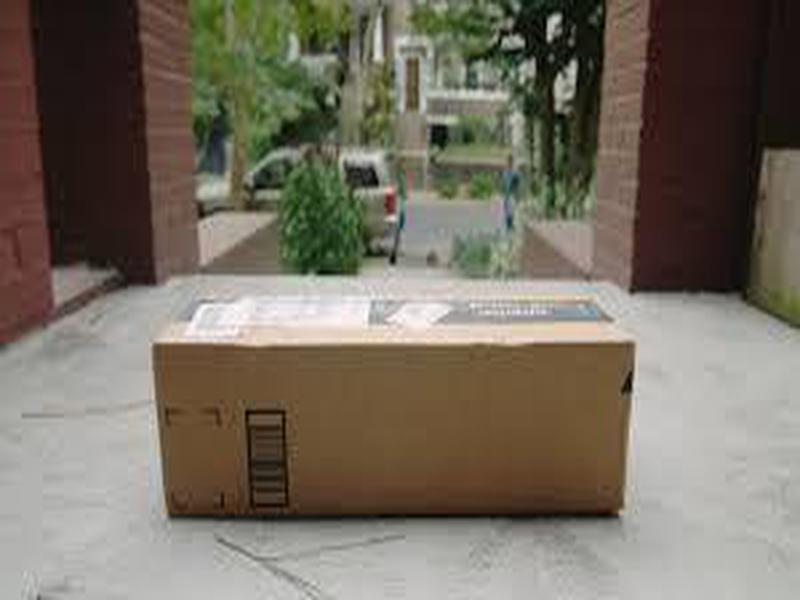package: (139, 282, 644, 531)
